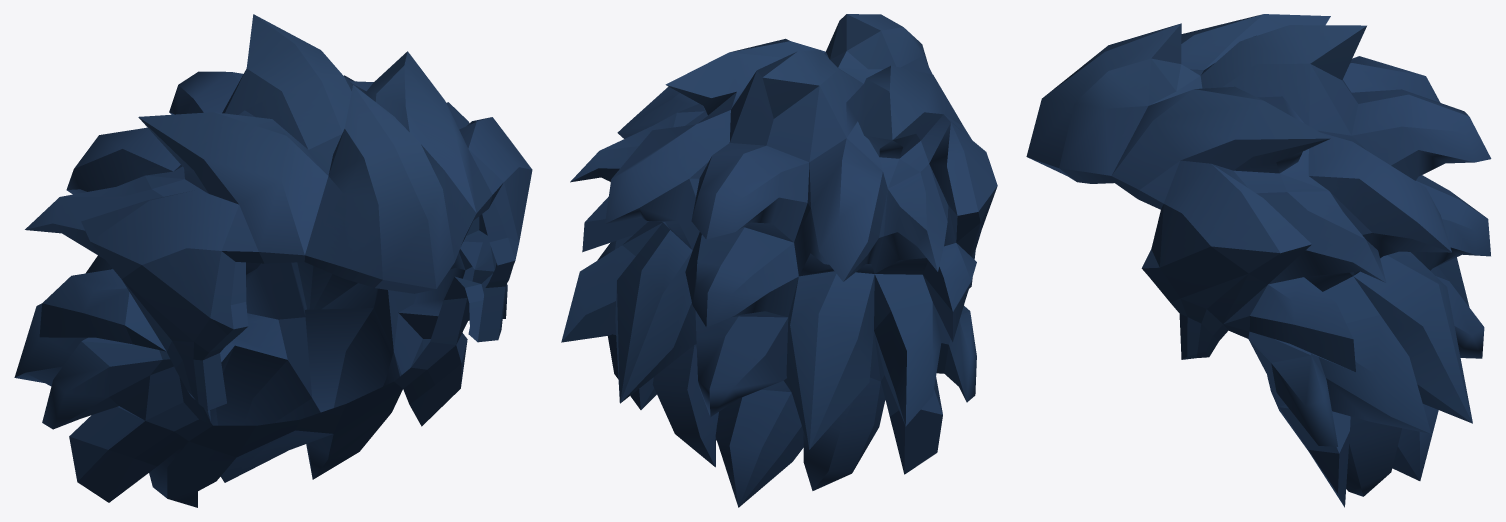
File: Hair_Blue_20.fbx
3 renders of one model, left to right at view 1: azimuth 30°, elevation 25°; view 2: azimuth 150°, elevation 25°; view 3: azimuth 270°, elevation 25°, orthographic. The views are drawn at different scales.
Parts seen in each view (by area): view 1: Hair_Blue_20; view 2: Hair_Blue_20; view 3: Hair_Blue_20.
Boxes of the visible parts, x1,y1,x2,y2 form: Hair_Blue_20: [14, 14, 532, 507]; Hair_Blue_20: [561, 14, 997, 507]; Hair_Blue_20: [1026, 14, 1491, 507].
Bounding box in the file's own units: 73.92 × 76.65 × 70.5.
